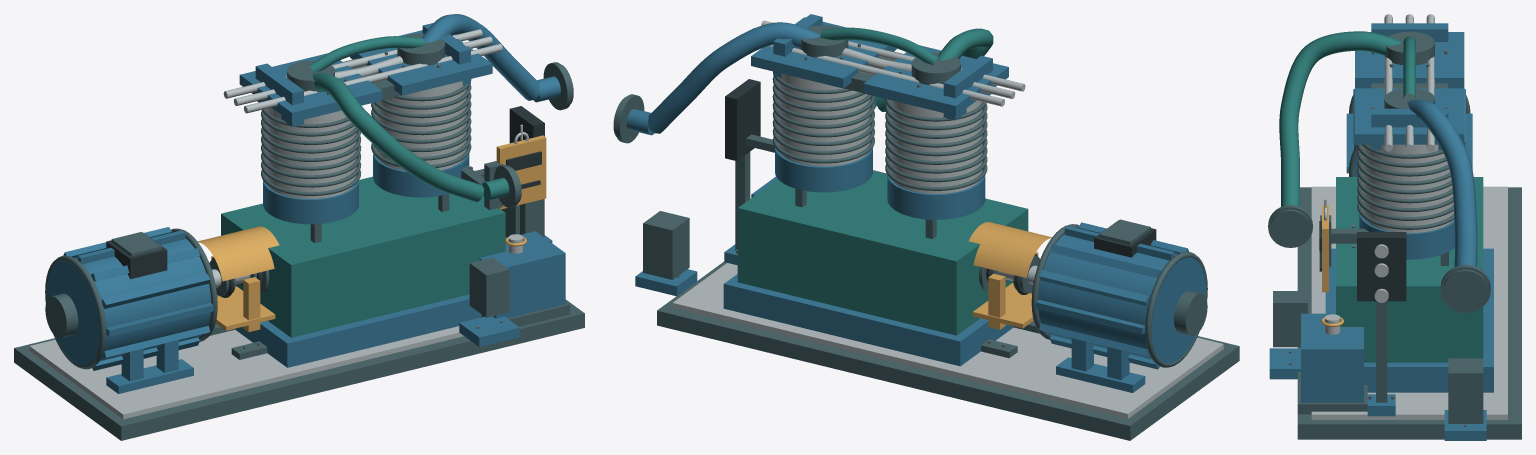
Rendered from compressor_unit.glb.
3 views of the same model, side by side, from view 1: azimuth 30°, elevation 25°; view 2: azimuth 150°, elevation 25°; view 3: azimuth 270°, elevation 25° (orthographic). The views are drawn at different scales.
Visible parts, largest first — view 1: compressor_unit__body, compressor_unit__isolation_tag; view 2: compressor_unit__body; view 3: compressor_unit__body, compressor_unit__isolation_tag.
Boxes of the visible parts, left/top/right/bottom form: compressor_unit__body: left=14, top=14, right=584, bottom=440; compressor_unit__isolation_tag: left=461, top=124, right=546, bottom=210; compressor_unit__body: left=613, top=14, right=1239, bottom=440; compressor_unit__body: left=1268, top=14, right=1521, bottom=440; compressor_unit__isolation_tag: left=1319, top=198, right=1368, bottom=292.
Bounding box in the file's own units: 4.6 × 2.38 × 1.81.
